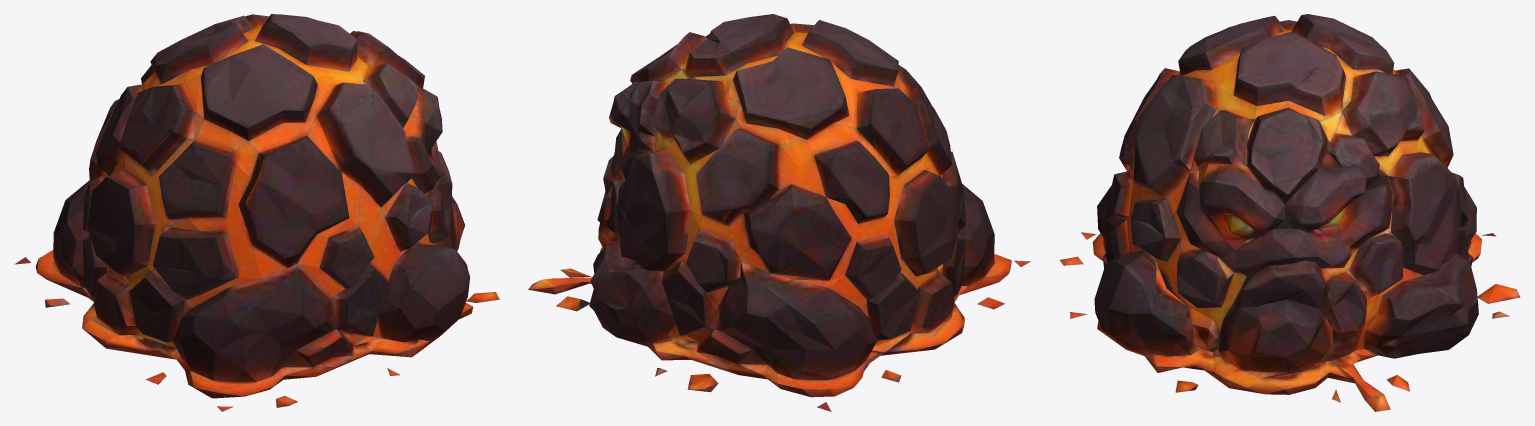
File: foe_magmaOoze.glb
The picture shows the model from 3 angles, left to right: view 1: azimuth 30°, elevation 25°; view 2: azimuth 150°, elevation 25°; view 3: azimuth 270°, elevation 25°; orthographic projection. The views are drawn at different scales.
Visible parts, largest first — view 1: tripo_node_08712942-f9ab-400c-bf74-b16fda52d49e.001; view 2: tripo_node_08712942-f9ab-400c-bf74-b16fda52d49e.001; view 3: tripo_node_08712942-f9ab-400c-bf74-b16fda52d49e.001.
Boxes of the visible parts, x1=… form: tripo_node_08712942-f9ab-400c-bf74-b16fda52d49e.001: x1=14, y1=14, x2=499, y2=411; tripo_node_08712942-f9ab-400c-bf74-b16fda52d49e.001: x1=528, y1=14, x2=1030, y2=411; tripo_node_08712942-f9ab-400c-bf74-b16fda52d49e.001: x1=1060, y1=14, x2=1520, y2=411.
Bounding box in the file's own units: 0.9645 × 0.671 × 0.9948.
1 material, 1 textured.
